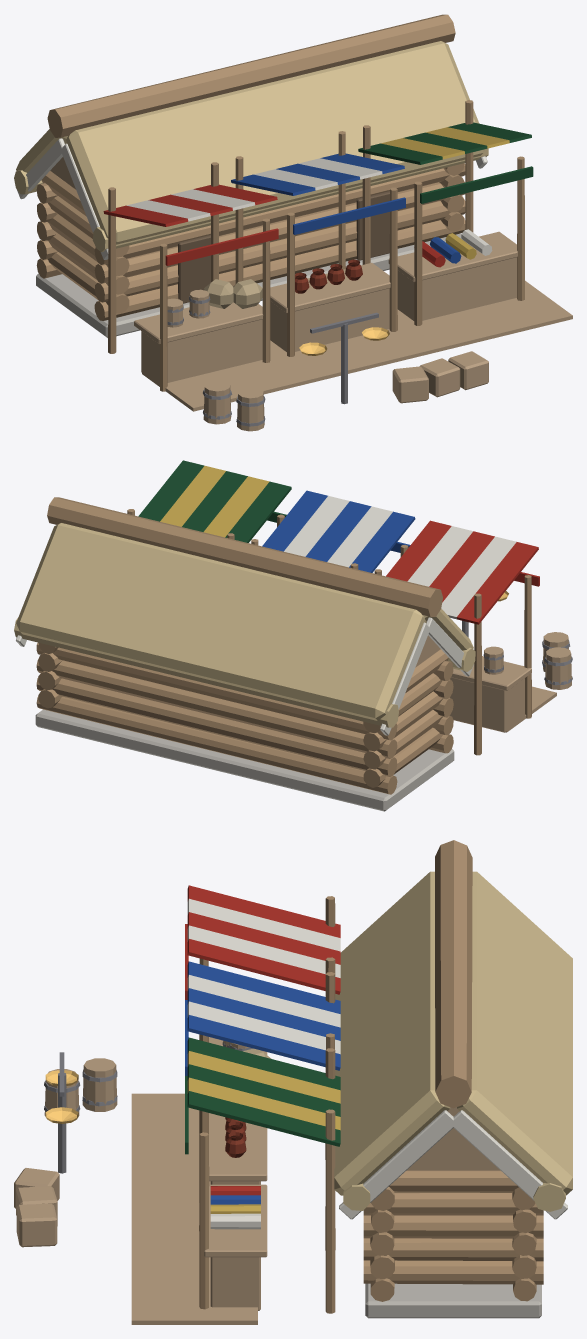
File: bld_market.glb
The picture shows the model from 3 angles, top to bottom: view 1: azimuth 30°, elevation 25°; view 2: azimuth 150°, elevation 25°; view 3: azimuth 270°, elevation 25°; orthographic projection. The views are drawn at different scales.
Parts seen in each view (by area): view 1: market; view 2: market; view 3: market.
Part boxes in pixels (bbox=[...]): market: bbox=[14, 14, 572, 431]; market: bbox=[14, 460, 572, 811]; market: bbox=[14, 840, 572, 1324].
Size of the model in its own units: 1.76 by 0.8884 by 1.77.
